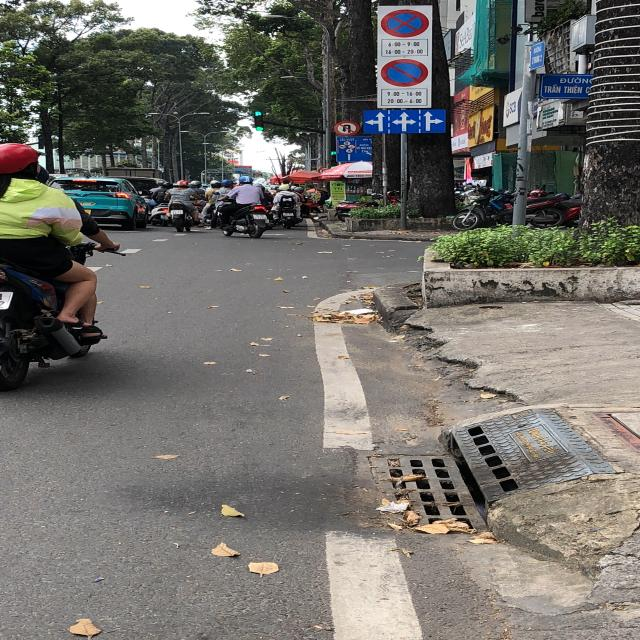Bien bao cam do xe: (378, 58, 431, 89)
Bien bao cam dung xe va do xe: (376, 7, 431, 37)
Bien bao cam quay dau xe: (334, 118, 360, 136)
